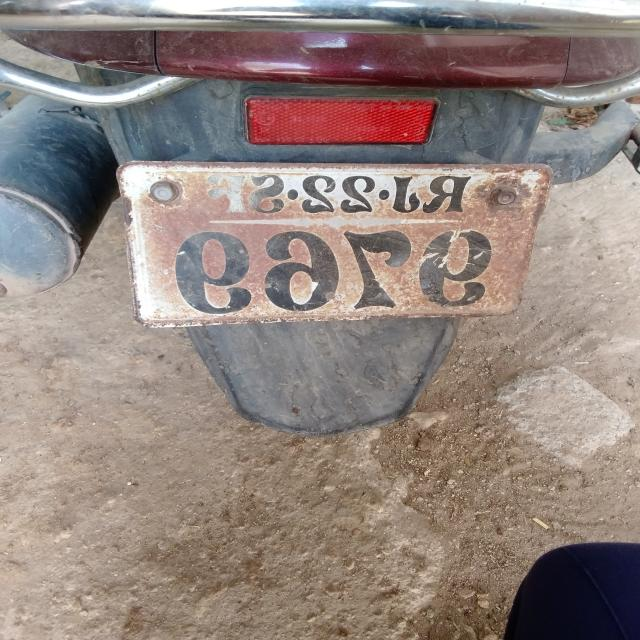license_plate: (119, 162, 560, 334)
